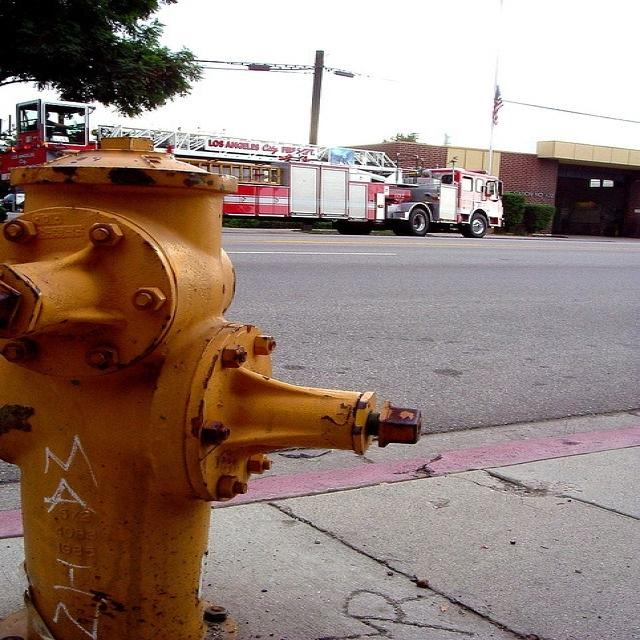fire_hydrant: (0, 148, 325, 640)
